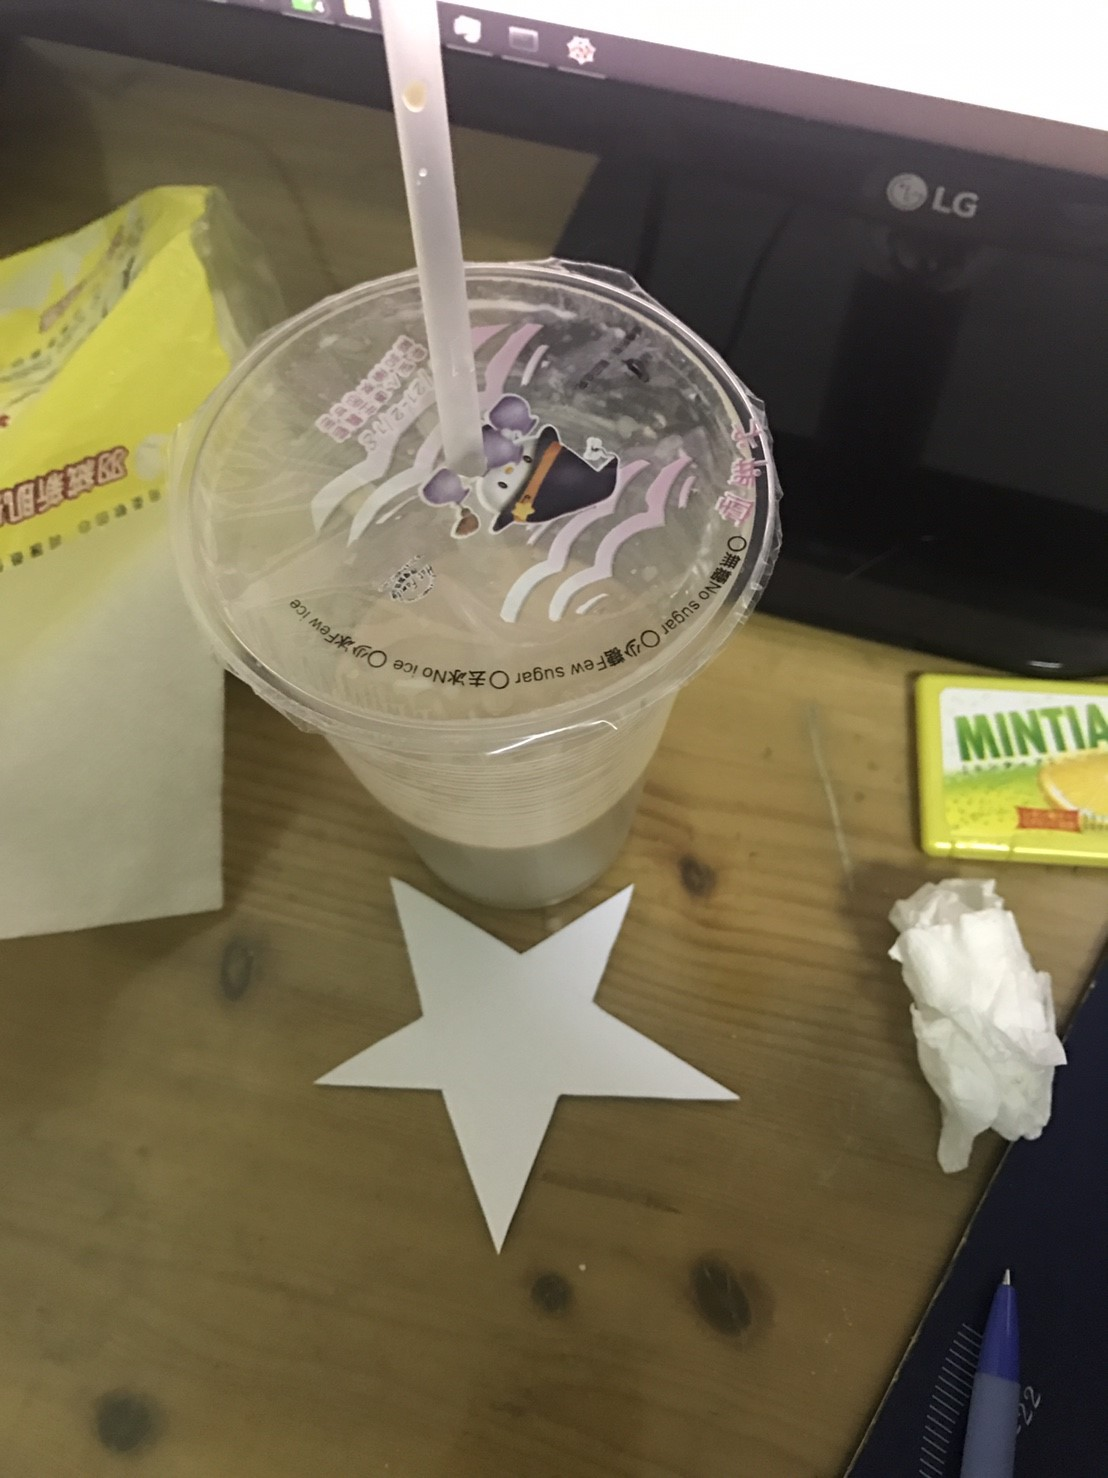star: (298, 818, 774, 1262)
